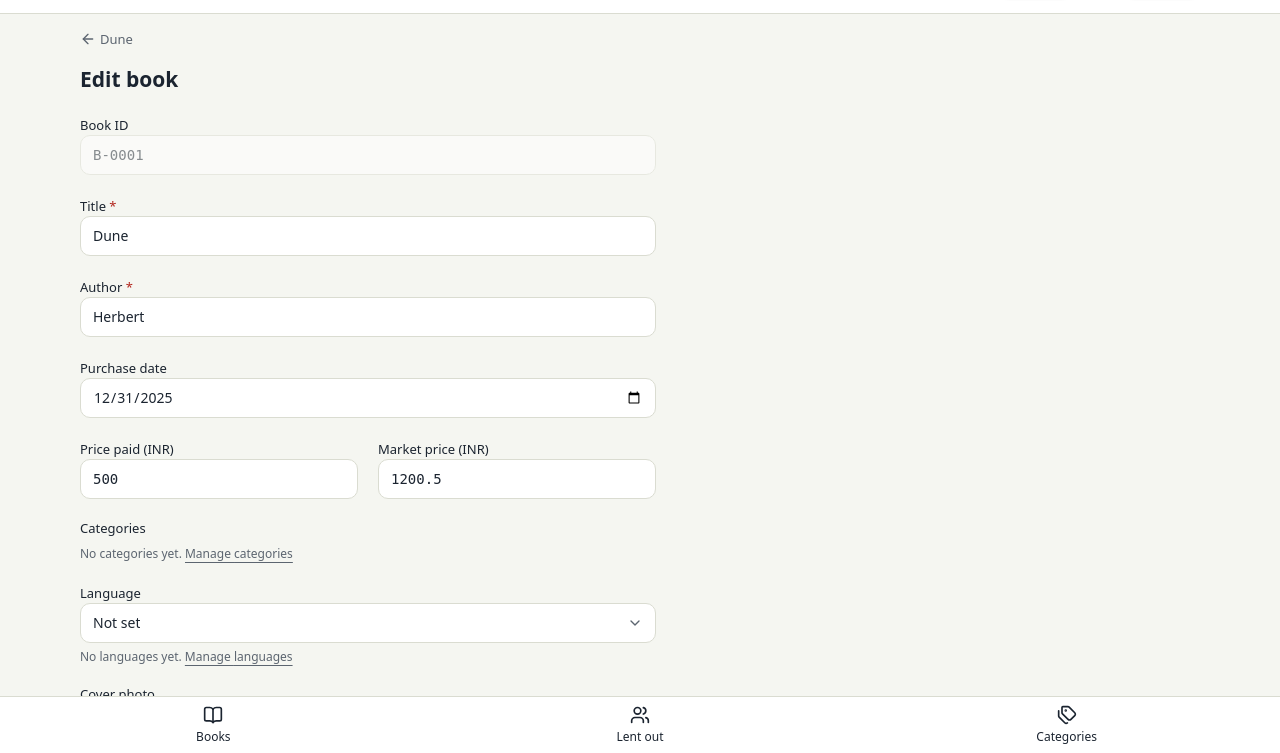
Edit book form › validates like the add form
Check: the heading "Edit book" is shown, box [80,65,178,93]
Clear the field labelled "Author *": (368, 317) [80,297,656,337]
(page scrolled)
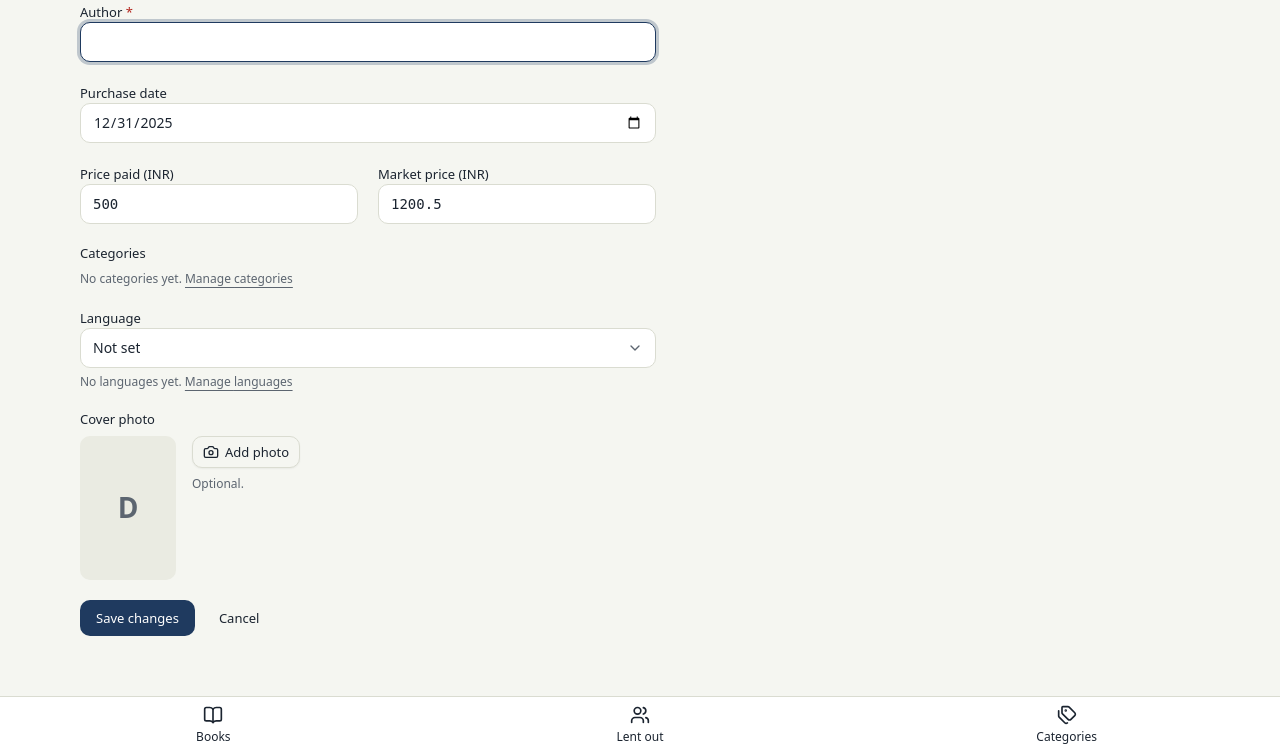
Click the button "Save changes": (137, 618) [80,600,195,636]
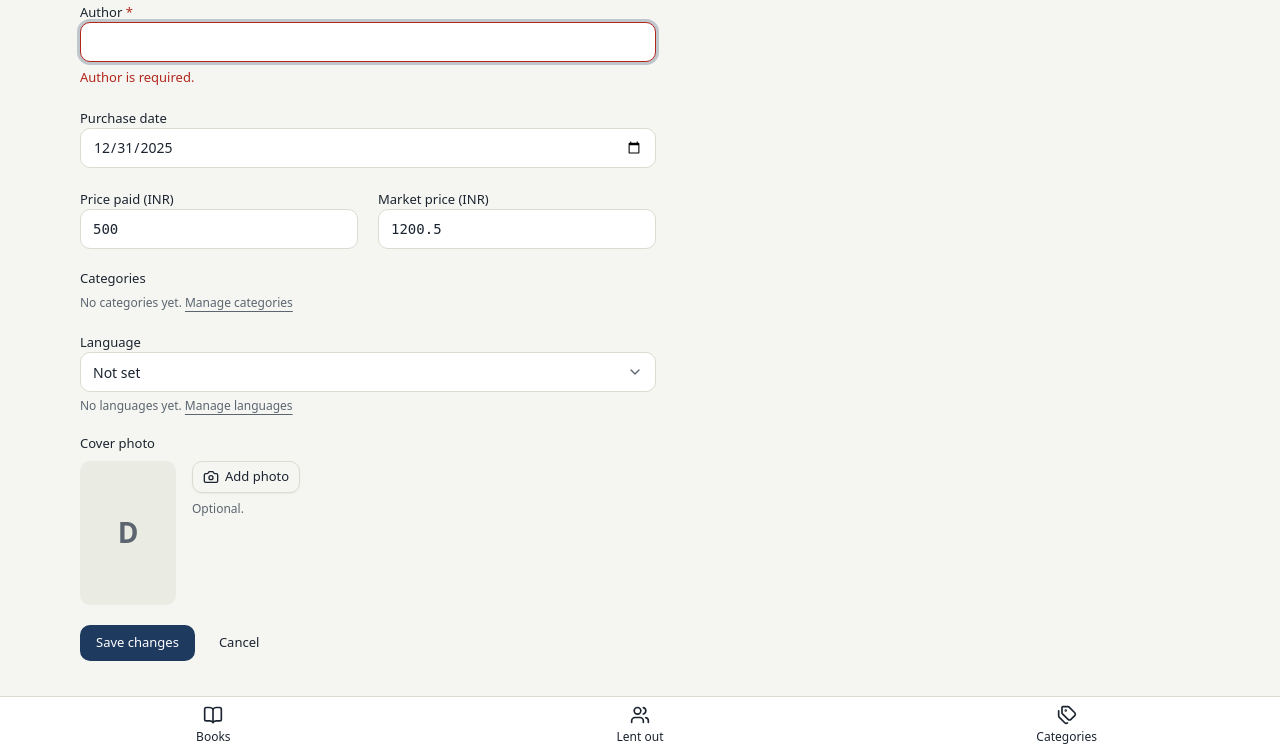
Check: the text "Author is required." is shown, box [80,68,194,86]
